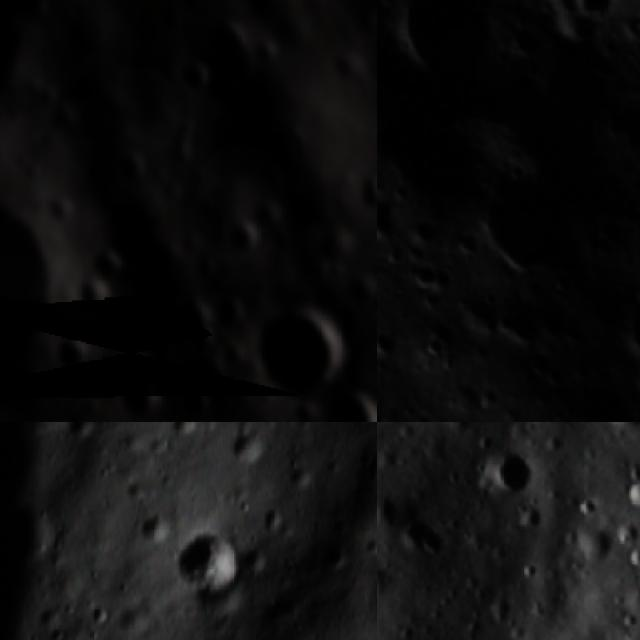crater: (454, 165, 608, 306), (0, 168, 70, 414), (377, 0, 511, 92), (246, 312, 349, 392), (171, 522, 244, 605), (475, 440, 551, 517), (0, 6, 45, 123), (208, 13, 270, 97), (393, 506, 459, 569), (54, 335, 103, 386), (613, 289, 640, 378), (100, 144, 152, 189), (120, 366, 162, 421), (315, 387, 377, 422), (513, 497, 558, 541), (377, 182, 404, 254), (167, 380, 210, 422), (402, 253, 444, 296), (610, 465, 640, 525), (555, 0, 620, 26), (223, 222, 268, 258), (182, 56, 220, 97), (87, 244, 124, 286), (341, 267, 377, 307), (183, 190, 220, 227), (316, 228, 350, 268), (228, 429, 264, 465), (247, 200, 284, 235), (282, 461, 324, 490), (595, 422, 640, 447), (216, 293, 247, 327), (175, 0, 226, 12), (60, 422, 96, 438), (85, 604, 110, 626), (477, 418, 554, 422)
